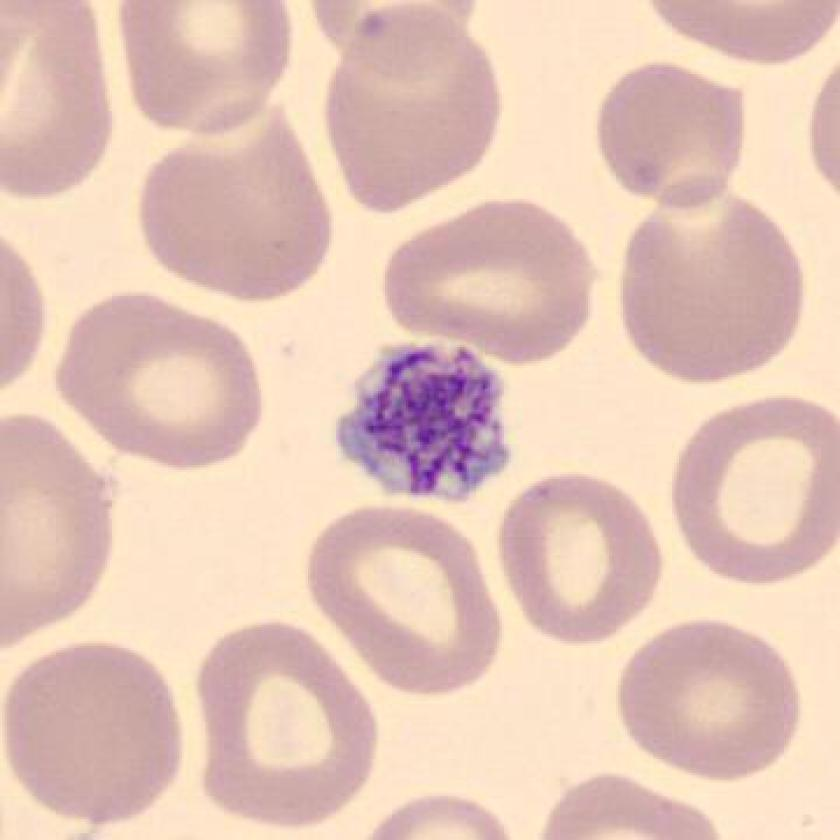platelets: (330, 334, 519, 503)
